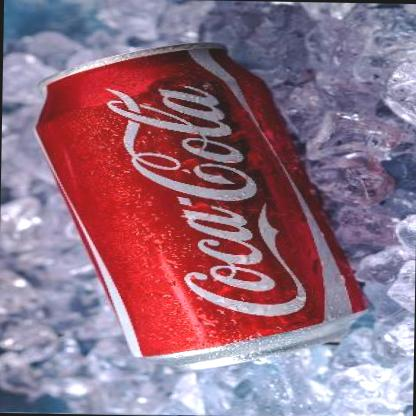alumunium_can: (31, 39, 374, 374)
